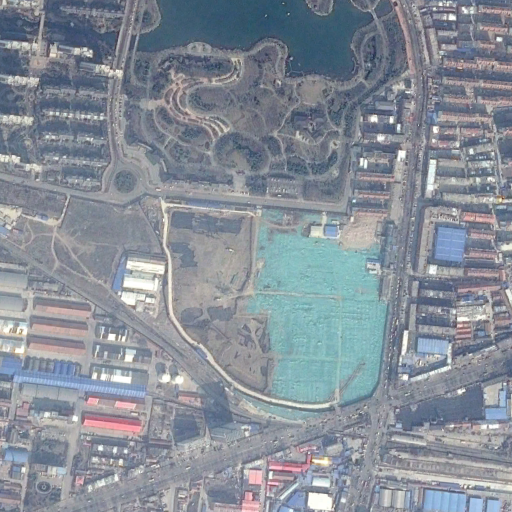cw: (231, 206, 389, 423)
